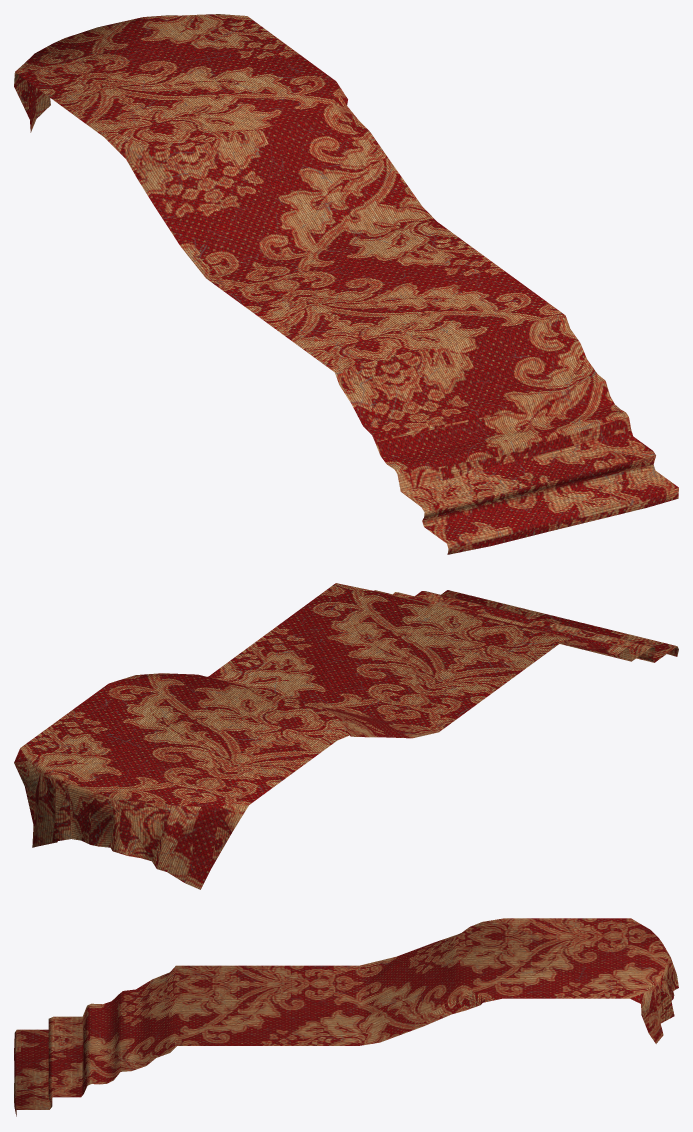
The model's file is Carpetlp1.fbx.
The picture shows the model from 3 angles, top to bottom: view 1: azimuth 30°, elevation 25°; view 2: azimuth 150°, elevation 25°; view 3: azimuth 270°, elevation 25°; orthographic projection. The views are drawn at different scales.
Parts seen in each view (by area): view 1: CarpetLp; view 2: CarpetLp; view 3: CarpetLp.
Boxes of the visible parts, x1,y1,x2,y2 form: CarpetLp: (14,14,678,554); CarpetLp: (14,583,678,889); CarpetLp: (14,918,678,1116).
Bounding box in the file's own units: 271 × 187 × 945.
